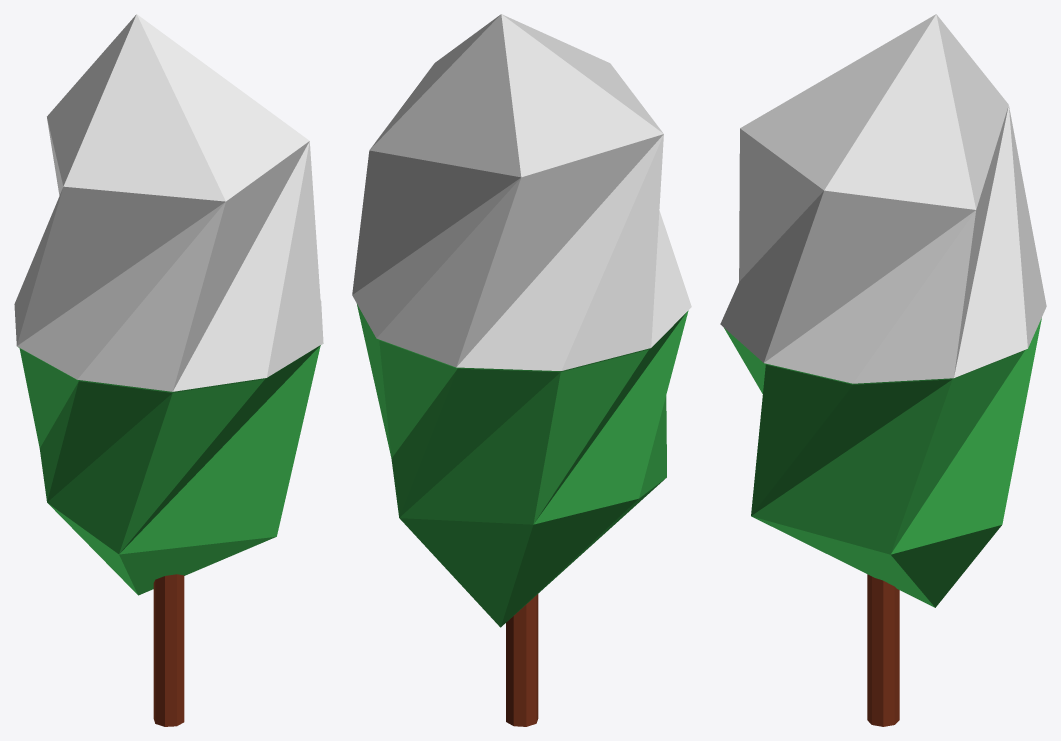
Rendered from tree.014.fbx.
3 views of the same model, side by side, from view 1: azimuth 30°, elevation 25°; view 2: azimuth 150°, elevation 25°; view 3: azimuth 270°, elevation 25° (orthographic). The views are drawn at different scales.
Visible parts, largest first — view 1: Tree.014; view 2: Tree.014; view 3: Tree.014.
Boxes of the visible parts, x1,y1,x2,y2 form: Tree.014: (14, 14, 323, 726); Tree.014: (352, 14, 691, 726); Tree.014: (720, 14, 1046, 726).
Size of the model in its own units: 400 by 960 by 404.
